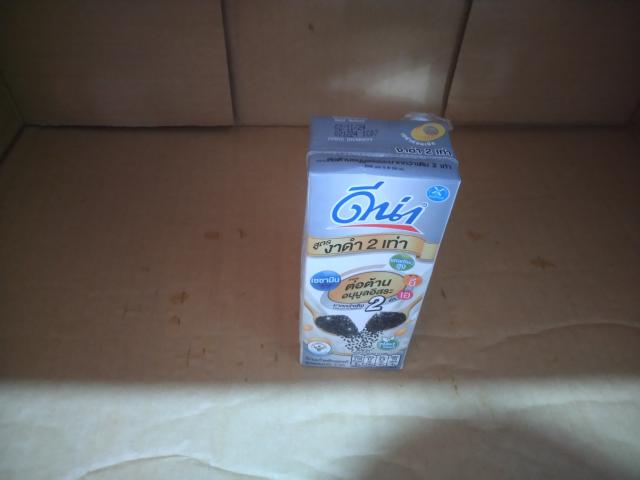drink_box: (282, 98, 468, 390)
